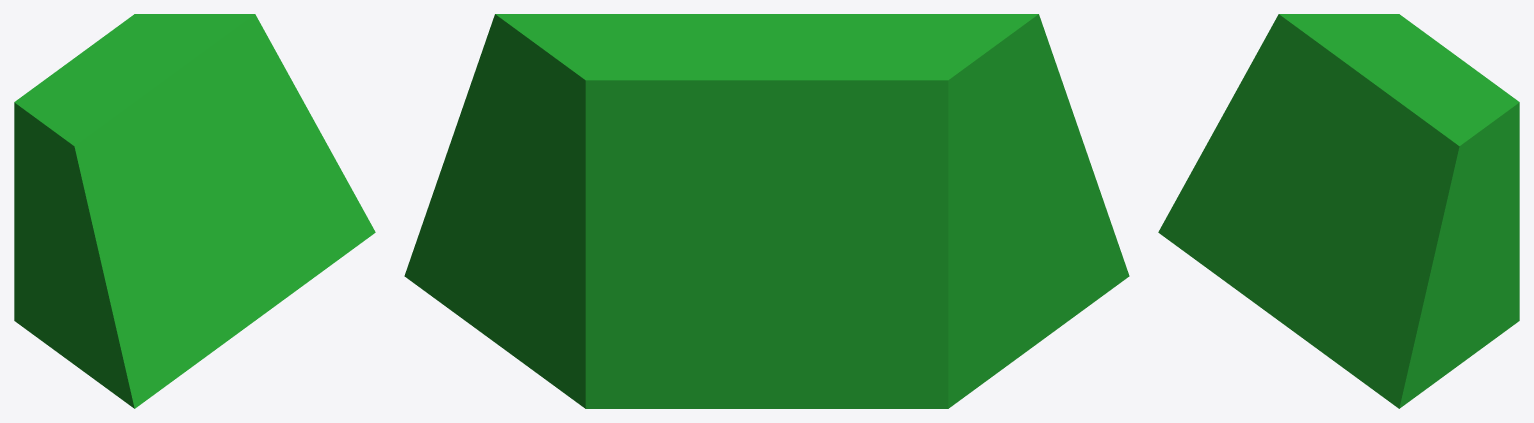
The model's file is cliff-small_corner.glb.
3 views of the same model, side by side, from view 1: azimuth 30°, elevation 25°; view 2: azimuth 150°, elevation 25°; view 3: azimuth 270°, elevation 25° (orthographic). The views are drawn at different scales.
Visible parts, largest first — view 1: cliff-small_corner; view 2: cliff-small_corner; view 3: cliff-small_corner.
Boxes of the visible parts, <box> form: cliff-small_corner: <box>14,14,375,408</box>; cliff-small_corner: <box>404,14,1129,408</box>; cliff-small_corner: <box>1158,14,1519,408</box>.
Size of the model in its own units: 0.866 by 0.5 by 0.75.
